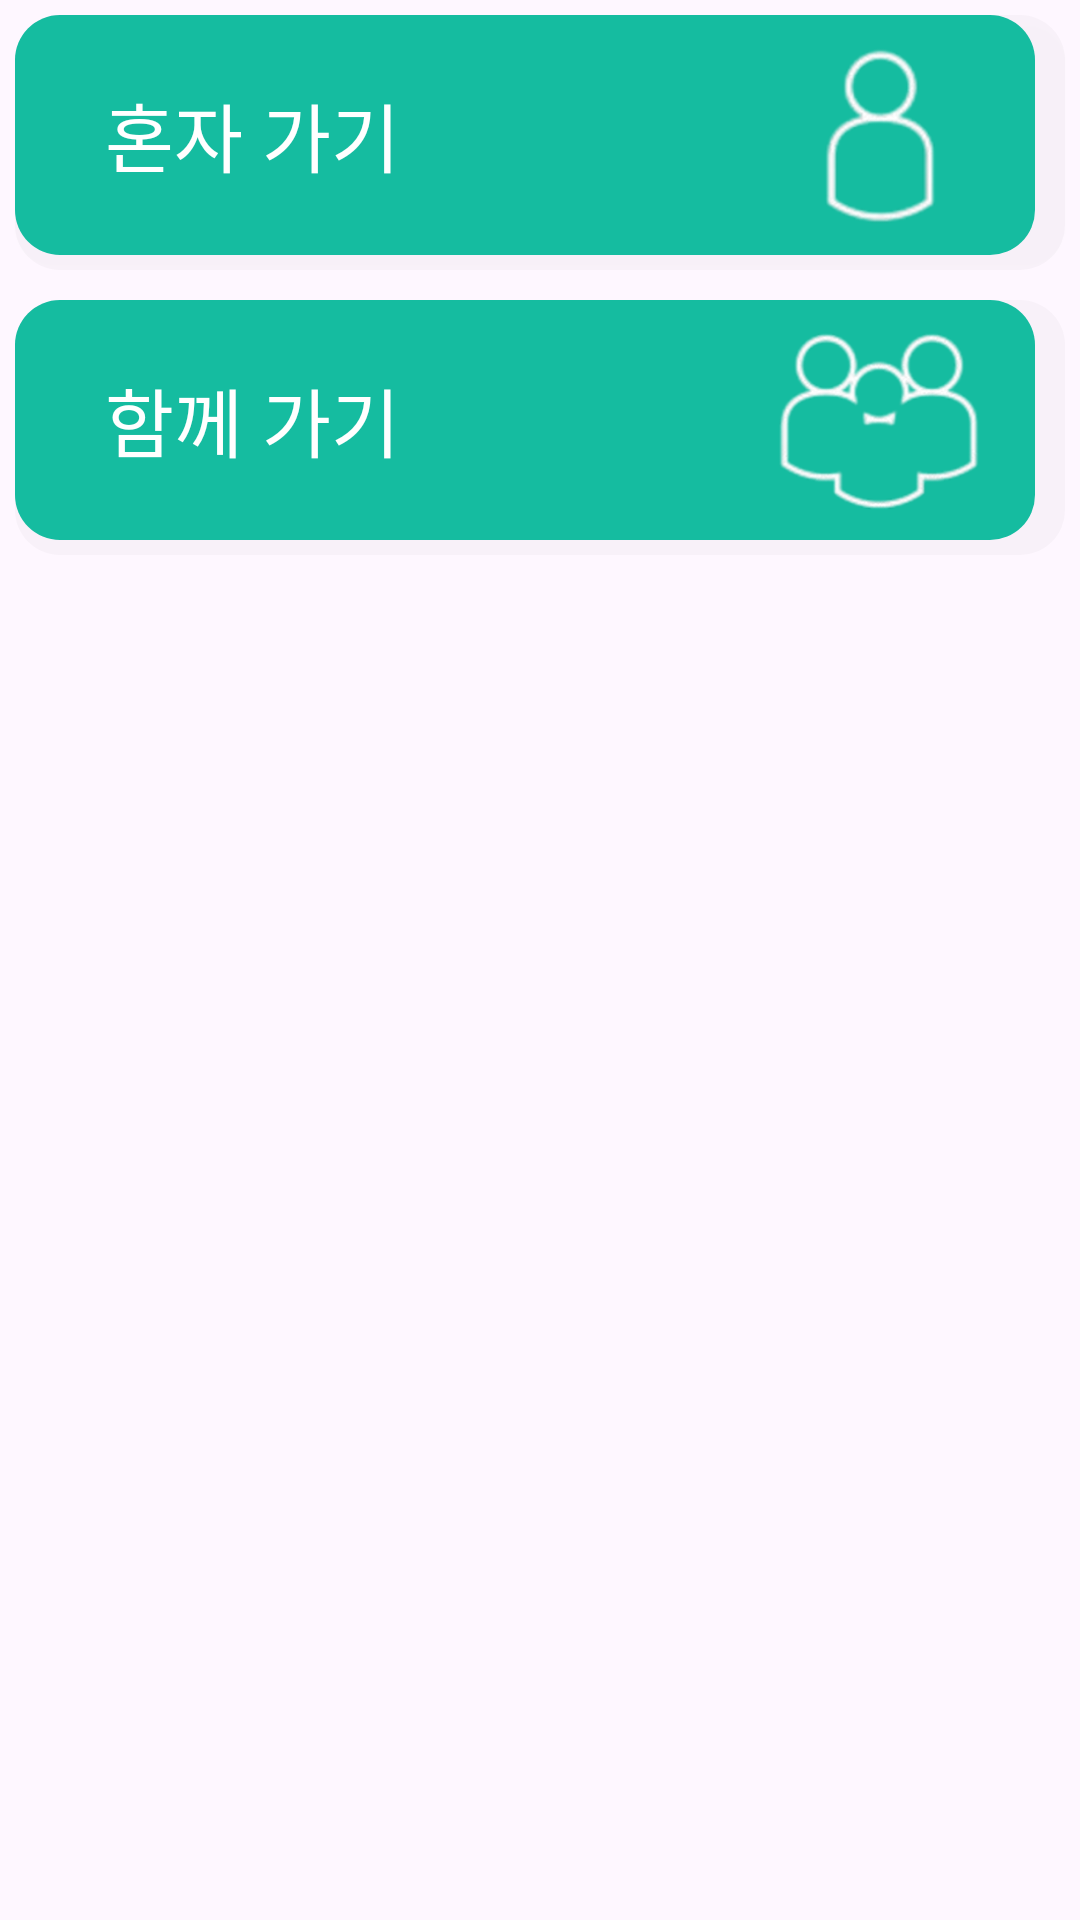

Icon click points for this 1080px x 1920px phone screenshot, format (x=x, y=y):
person: (x=880, y=136)
